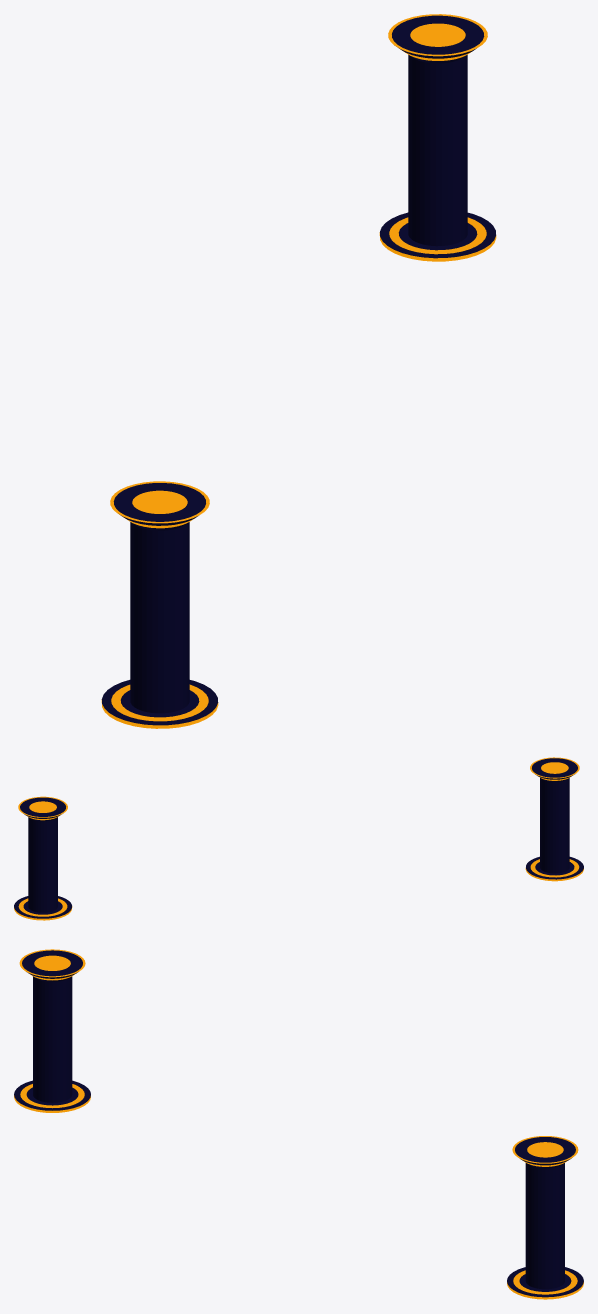
File: console_towers.glb
The picture shows the model from 3 angles, top to bottom: view 1: azimuth 30°, elevation 25°; view 2: azimuth 150°, elevation 25°; view 3: azimuth 270°, elevation 25°; orthographic projection. The views are drawn at different scales.
Parts seen in each view (by area): view 1: Tower.001, Tower, smoke.001, smoke; view 2: Tower, Tower.001, smoke, smoke.001; view 3: Tower.001, Tower, smoke.001, smoke.
Boxes of the visible parts, x1,y1,x2,y2 form: Tower.001: (379,14,496,261); Tower: (101,481,218,728); smoke.001: (410,23,465,46); smoke: (132,490,187,513); Tower: (525,757,583,881); Tower.001: (14,796,72,920); smoke: (541,762,568,773); smoke.001: (29,801,56,812); Tower.001: (507,1136,583,1299); Tower: (14,949,90,1112); smoke.001: (527,1142,563,1157); smoke: (34,955,70,970).
Size of the model in its own units: 0.6288 by 0.1897 by 0.6245.
